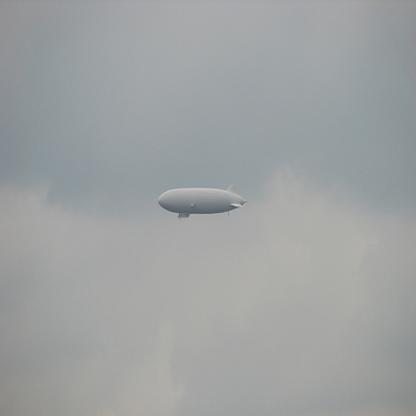Airship: (156, 185, 249, 223)
